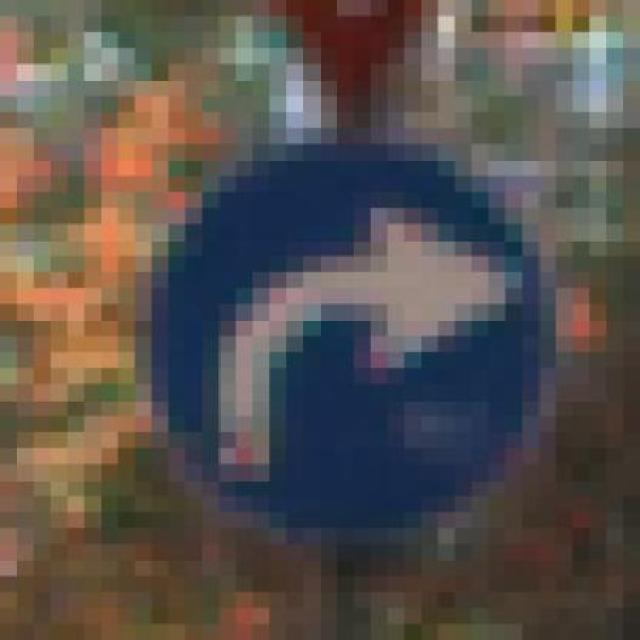Turn right ahead: (114, 112, 586, 559)
